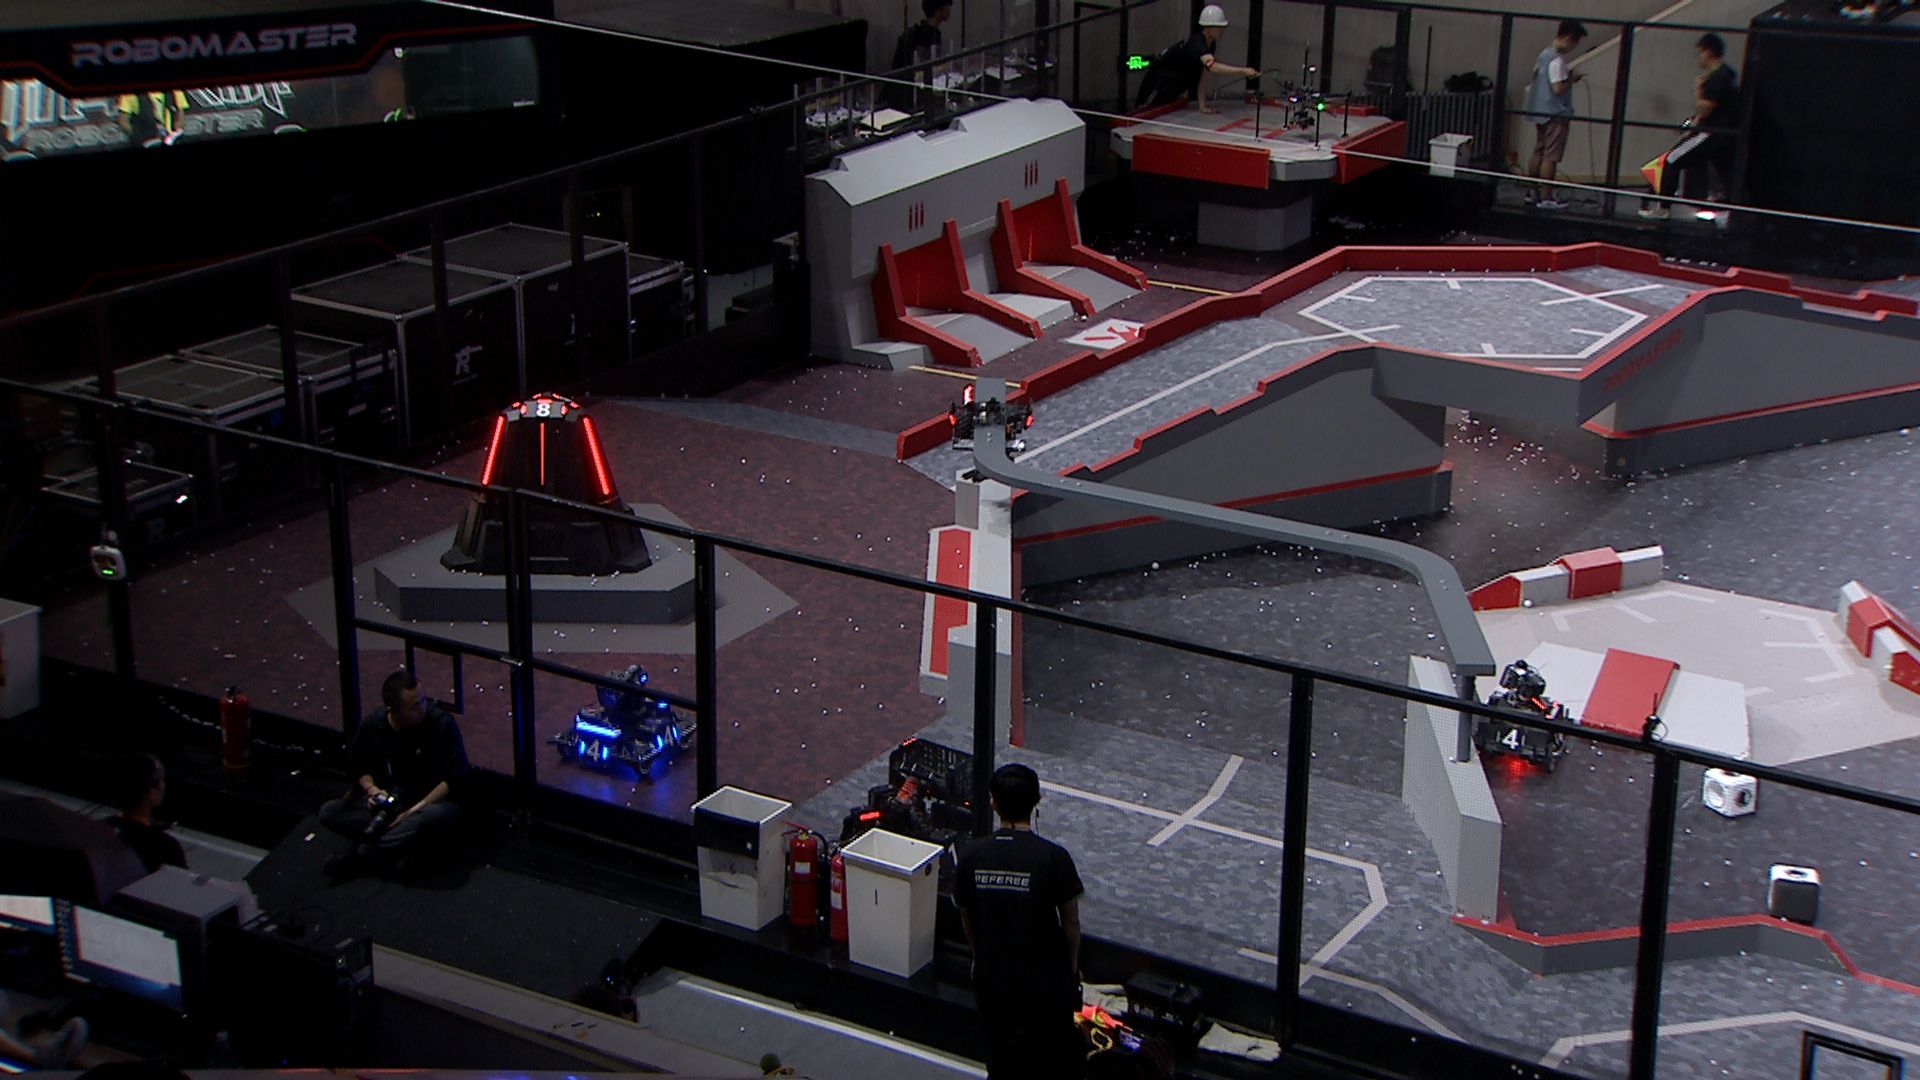armor: (582, 417, 611, 496), (477, 415, 506, 487), (520, 398, 568, 419), (938, 840, 968, 870), (578, 740, 613, 765), (1495, 728, 1528, 752), (537, 422, 549, 488), (654, 725, 680, 752)
base: (439, 392, 654, 579)
car: (818, 737, 1002, 902), (547, 666, 698, 777), (1466, 659, 1572, 770)
watcher: (948, 382, 1035, 485)
